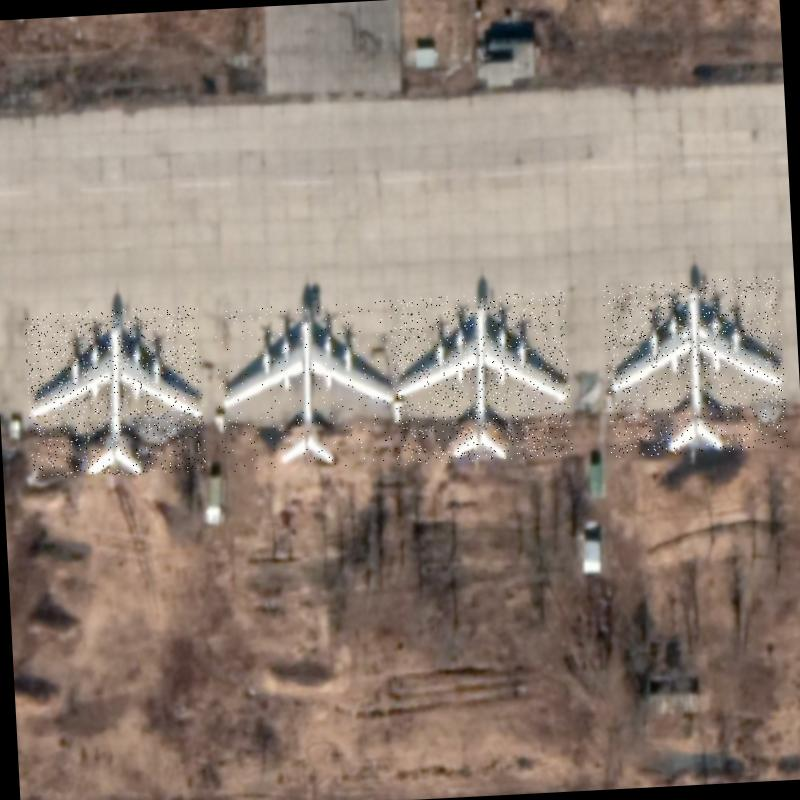A17: (602, 276, 788, 458), (389, 290, 573, 465), (214, 301, 400, 473), (24, 306, 206, 480)
